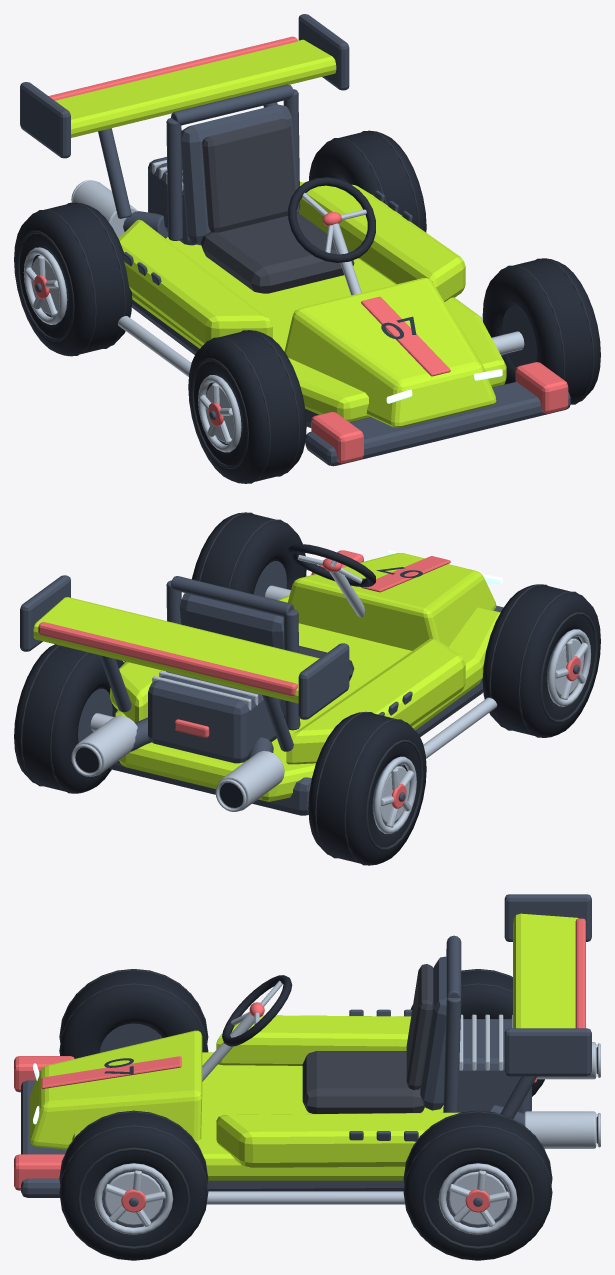
Rendered from kart-r12-chassis.glb.
3 views of the same model, one above another, from view 1: azimuth 30°, elevation 25°; view 2: azimuth 150°, elevation 25°; view 3: azimuth 270°, elevation 25° (orthographic).
Parts seen in each view (by area): view 1: NeonKart_Body, NeonKart_DarkMetal, NeonKart_Seat, Wheel_FL_Rubber, Wheel_RL_Rubber, Wheel_FR_Rubber, NeonKart_Accent, Wheel_RR_Rubber, NeonKart_Metal, Wheel_FL_Metal, Wheel_RL_Metal, SteeringPivot_authored_Rubber (+4 smaller); view 2: NeonKart_Body, NeonKart_DarkMetal, Wheel_RL_Rubber, Wheel_FL_Rubber, Wheel_RR_Rubber, NeonKart_Metal, Wheel_FR_Rubber, NeonKart_Accent, Wheel_FL_Metal, Wheel_RL_Metal, Wheel_RL_TireDetail, Wheel_FL_TireDetail (+5 smaller); view 3: NeonKart_Body, NeonKart_DarkMetal, Wheel_FR_Rubber, Wheel_RR_Rubber, NeonKart_Seat, Wheel_FL_Rubber, NeonKart_Metal, NeonKart_Accent, Wheel_FR_Metal, Wheel_RR_Metal, Wheel_RL_Rubber, Wheel_FR_TireDetail (+4 smaller).
Boxes of the visible parts, box(x1,y1,x2,y2) form: NeonKart_Body: box(55, 39, 506, 427); NeonKart_DarkMetal: box(20, 14, 570, 466); NeonKart_Seat: box(201, 118, 354, 293); Wheel_FL_Rubber: box(188, 330, 306, 483); Wheel_RL_Rubber: box(14, 203, 132, 356); Wheel_FR_Rubber: box(482, 258, 600, 404); NeonKart_Accent: box(49, 36, 568, 463); Wheel_RR_Rubber: box(309, 130, 426, 232); NeonKart_Metal: box(71, 160, 524, 376); Wheel_FL_Metal: box(198, 375, 241, 452); Wheel_RL_Metal: box(23, 247, 67, 324); SteeringPivot_authored_Rubber: box(288, 177, 375, 262); NeonKart_Body: box(33, 553, 500, 801); NeonKart_DarkMetal: box(20, 575, 503, 815); Wheel_RL_Rubber: box(308, 711, 426, 865); Wheel_FL_Rubber: box(482, 584, 600, 737); Wheel_RR_Rubber: box(14, 644, 124, 793); NeonKart_Metal: box(71, 571, 497, 811); Wheel_FR_Rubber: box(192, 512, 306, 594); NeonKart_Accent: box(38, 550, 450, 737); Wheel_FL_Metal: box(547, 629, 591, 706); Wheel_RL_Metal: box(373, 756, 416, 833); Wheel_RL_TireDetail: box(314, 712, 423, 865); Wheel_FL_TireDetail: box(489, 584, 597, 737); NeonKart_Body: box(30, 913, 578, 1180); NeonKart_DarkMetal: box(21, 894, 591, 1197); Wheel_FR_Rubber: box(60, 1110, 207, 1260); Wheel_RR_Rubber: box(404, 1110, 551, 1260); NeonKart_Seat: box(302, 964, 433, 1113); Wheel_FL_Rubber: box(60, 969, 207, 1058); NeonKart_Metal: box(202, 1012, 600, 1204); NeonKart_Accent: box(14, 918, 585, 1190); Wheel_FR_Metal: box(94, 1163, 173, 1234); Wheel_RR_Metal: box(438, 1163, 517, 1234); Wheel_RL_Rubber: box(411, 969, 544, 1096); Wheel_FR_TireDetail: box(59, 1111, 208, 1249).
Size of the model in its own units: 2.45 by 1.42 by 3.43.
